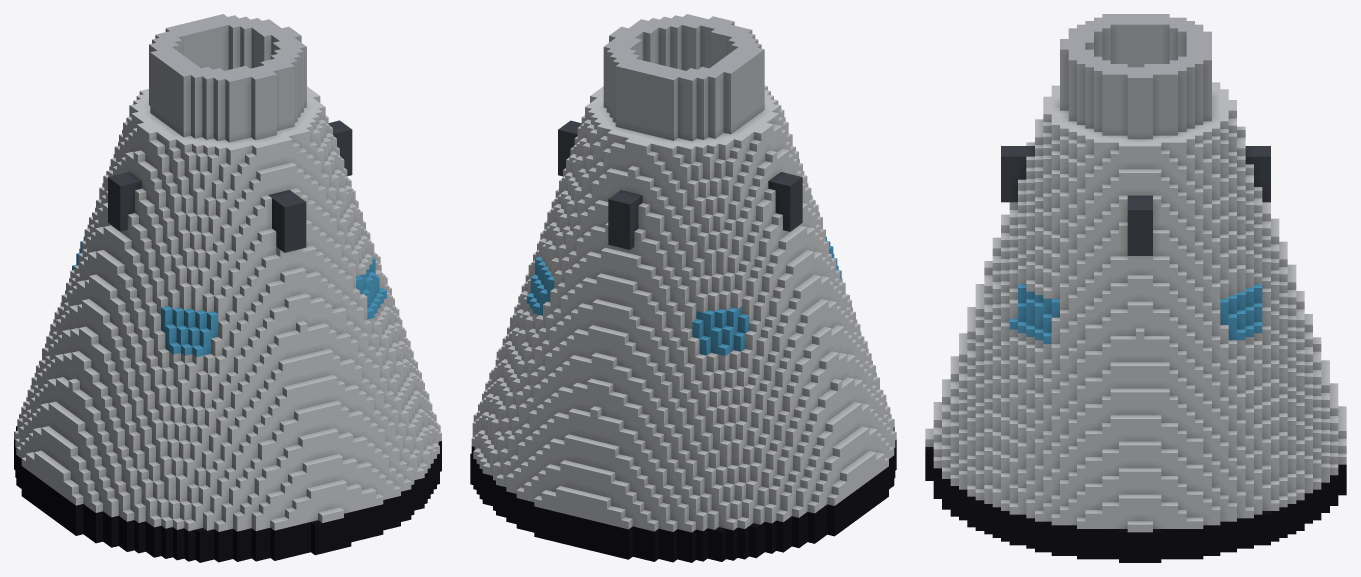
Rendered from crew_capsule.glb.
The picture shows the model from 3 angles, left to right: view 1: azimuth 30°, elevation 25°; view 2: azimuth 150°, elevation 25°; view 3: azimuth 270°, elevation 25°; orthographic projection.
Parts seen in each view (by area): view 1: crew_capsule; view 2: crew_capsule; view 3: crew_capsule.
Boxes of the visible parts, x1,y1,x2,y2 form: crew_capsule: (14,14,441,562); crew_capsule: (470,14,896,562); crew_capsule: (925,14,1346,562).
Bounding box in the file's own units: 2.5 × 2.8 × 2.5.
